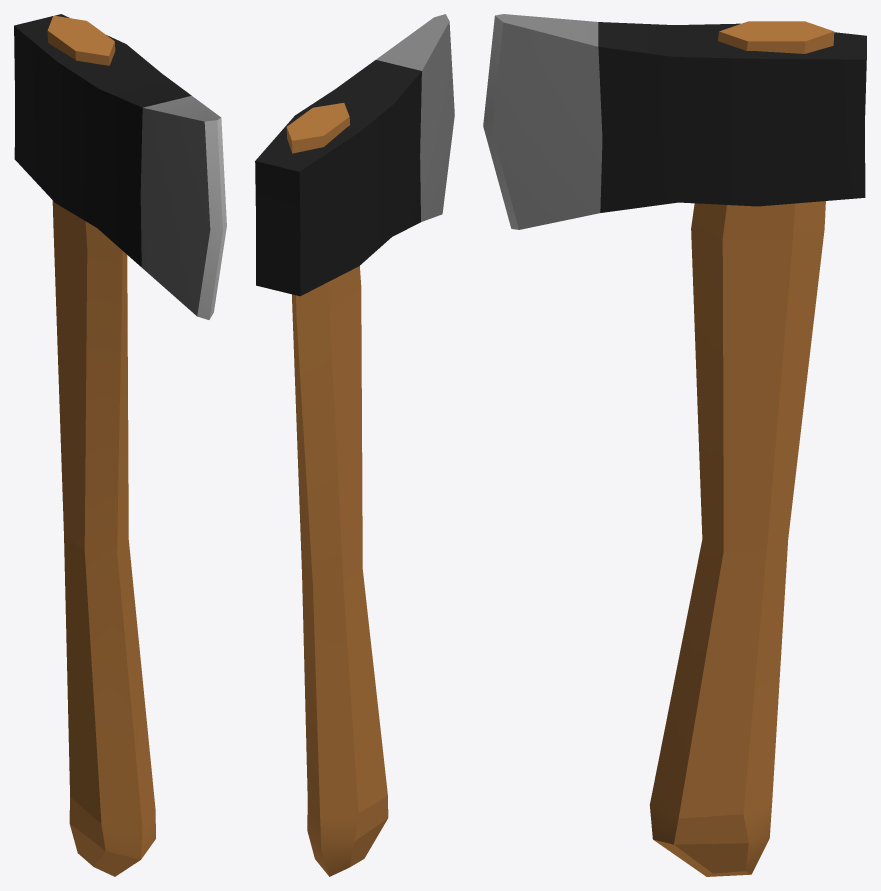
The model's file is Axe12.glb.
3 views of the same model, side by side, from view 1: azimuth 30°, elevation 25°; view 2: azimuth 150°, elevation 25°; view 3: azimuth 270°, elevation 25° (orthographic). The views are drawn at different scales.
Visible parts, largest first — view 1: weapon_generator; view 2: weapon_generator; view 3: weapon_generator.
Part boxes in pixels (bbox=[...]): weapon_generator: bbox=[14, 14, 226, 876]; weapon_generator: bbox=[255, 14, 454, 876]; weapon_generator: bbox=[483, 14, 866, 876].
Size of the model in its own units: 0.0364 by 0.4131 by 0.1668.
